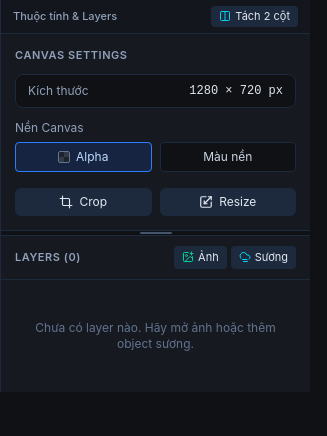
Scenario: Editor UI Components › WorkspacePanels toggles between merged and split 2-column layout
Expected: the text "Thuộc tính & Layers" is shown, [13,8,117,24]
Step 1. Click the button "Tách 2 cột" → coordinates (255, 16), box [211,6,298,26]
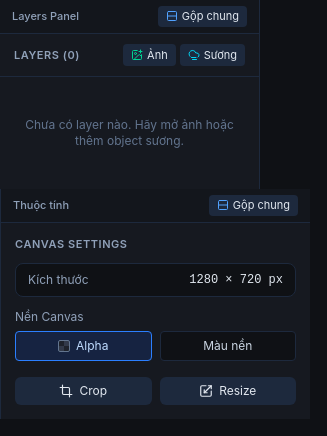
Expected: the text "Layers Panel" is shown, [12,8,79,24]
Step 2. Click the button "Gộp chung" next to "Layers Panel" → coordinates (202, 16), box [158,6,247,26]
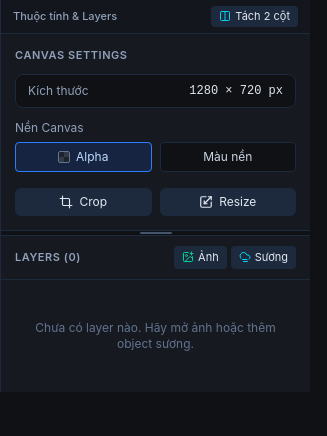
Expected: the text "Thuộc tính & Layers" is shown, [13,8,117,24]
